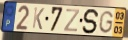2: (16, 4, 31, 32)
7: (50, 6, 64, 33)
G: (97, 10, 114, 35)
K: (31, 6, 46, 31)
S: (81, 8, 101, 35)
Z: (63, 8, 81, 33)
